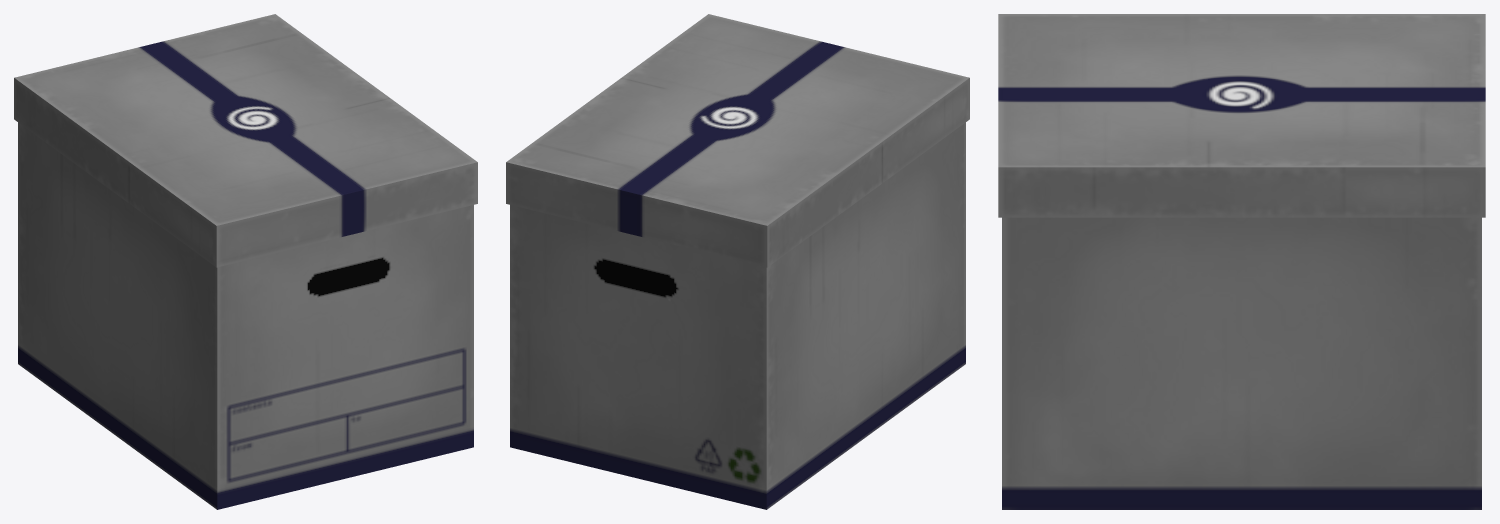
The model's file is BoxPortable_E.fbx.
3 views of the same model, side by side, from view 1: azimuth 30°, elevation 25°; view 2: azimuth 150°, elevation 25°; view 3: azimuth 270°, elevation 25° (orthographic). The views are drawn at different scales.
Visible parts, largest first — view 1: BoxPortable_E; view 2: BoxPortable_E; view 3: BoxPortable_E.
Part boxes in pixels (<box>): BoxPortable_E: <box>14,14,477,509</box>; BoxPortable_E: <box>506,14,969,509</box>; BoxPortable_E: <box>998,14,1485,509</box>.
Size of the model in its own units: 29.5 by 30.83 by 39.6.
